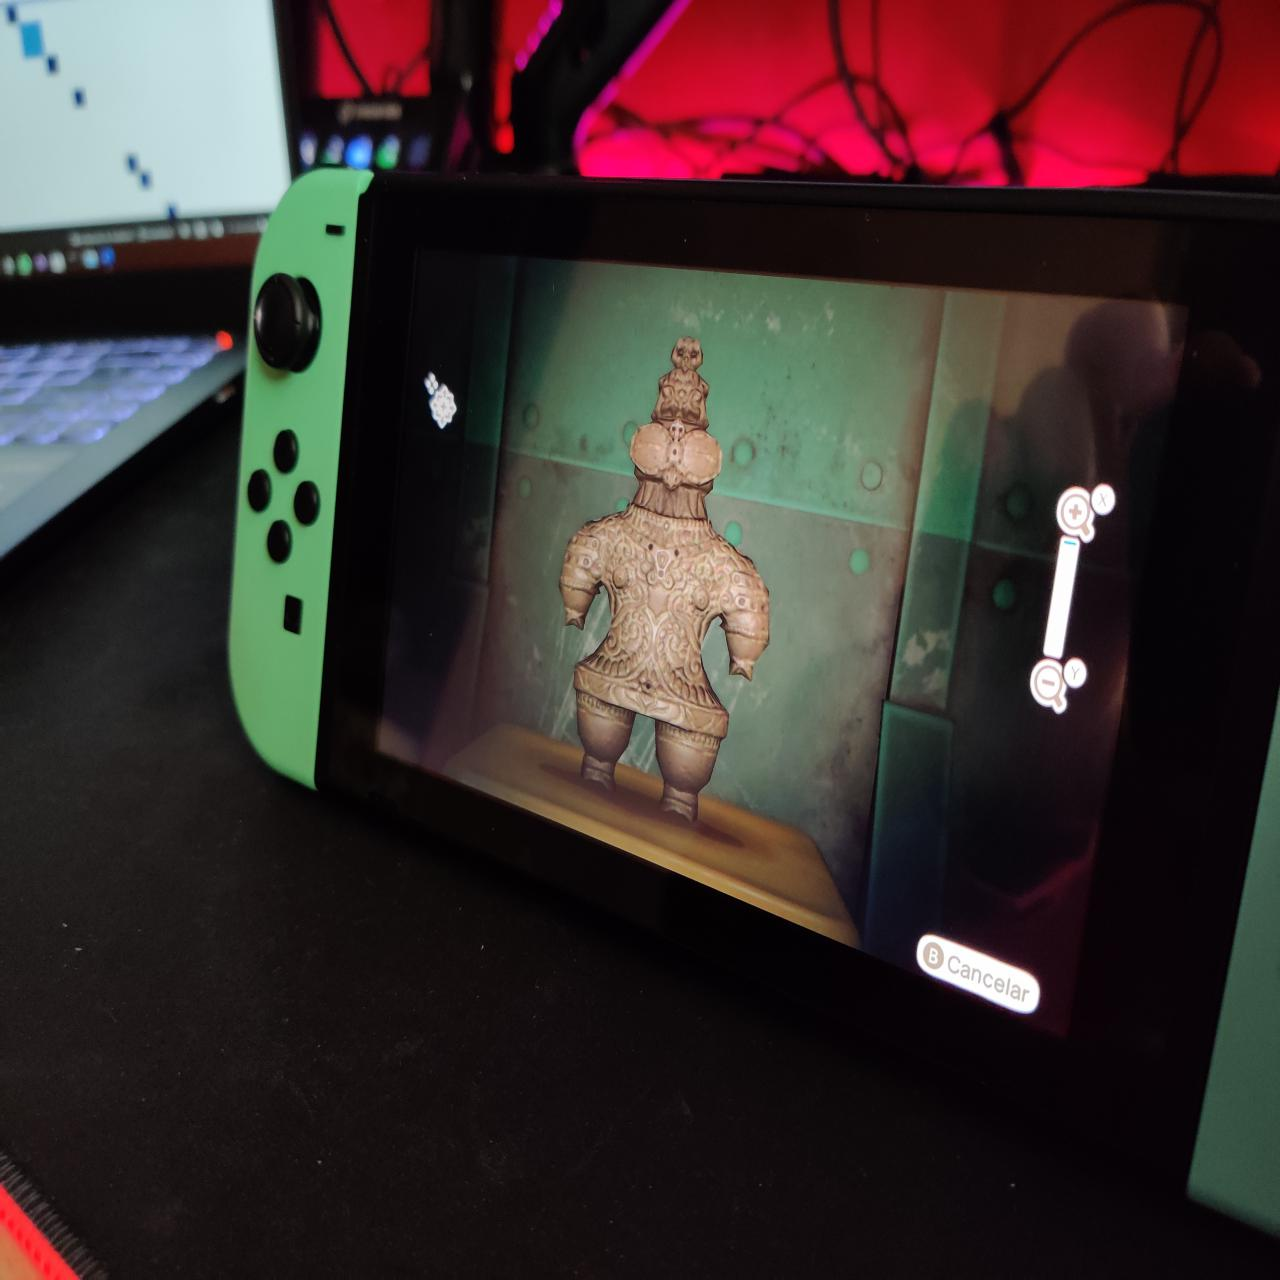Doguu: (559, 334, 778, 832)
